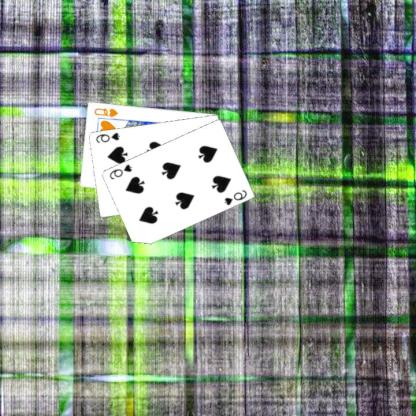6S: (108, 162, 135, 181), (223, 187, 250, 206), (95, 129, 122, 144)
QH: (93, 105, 121, 118)
